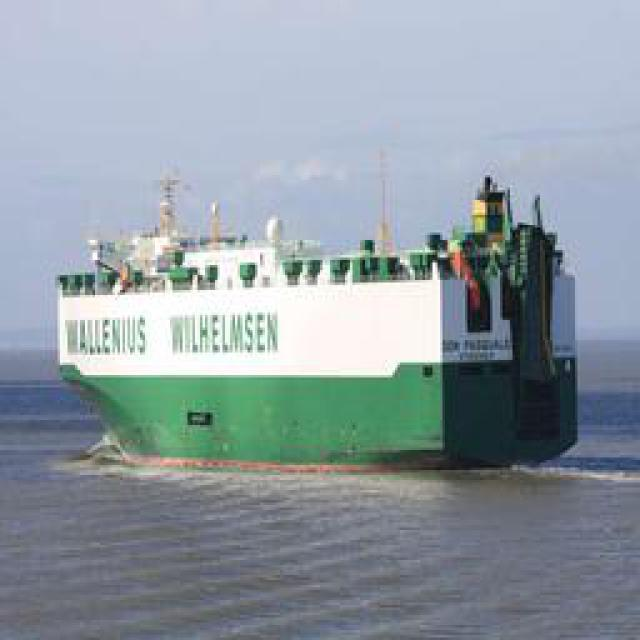Ship: (53, 152, 581, 460)
